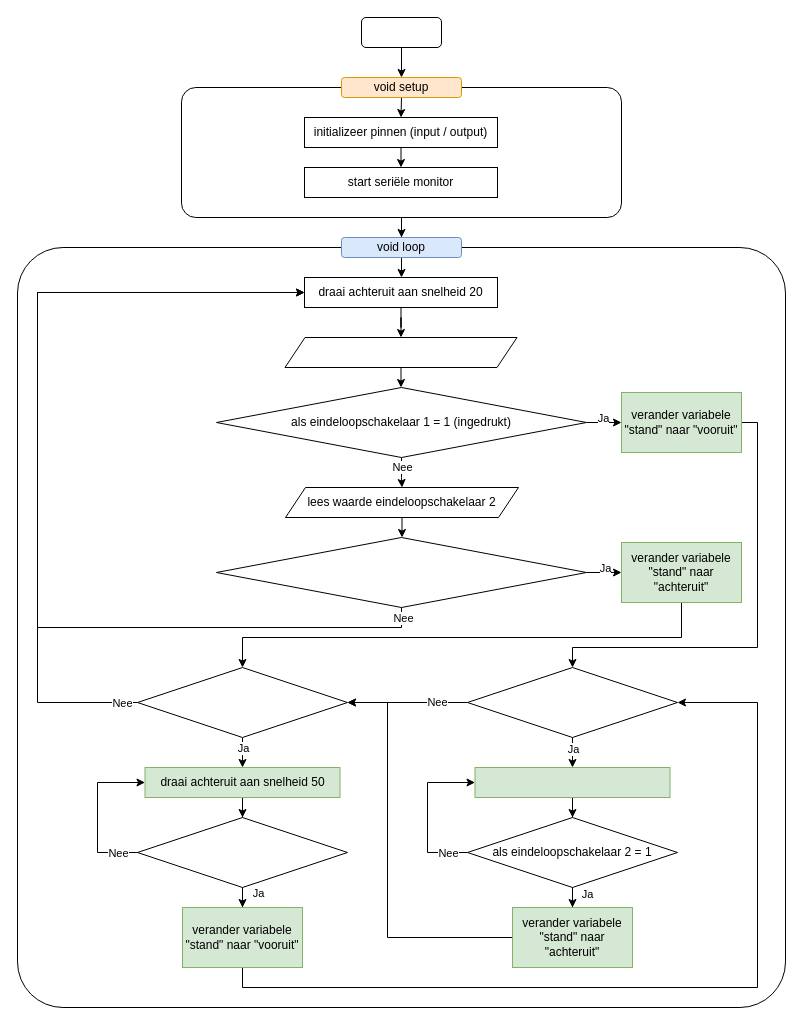
Some shapes in this 803 by 1025 pixel diagram are drawn without their labels. Here are the shapes that lost their labels. From the top down, the box of each, then its label:
(360, 16, 442, 48): start
(284, 336, 517, 368): lees waarde eindeloopschakelaar 1
(216, 536, 586, 608): als eindeloopschakelaar 2 = 1 (ingedrukt)
(136, 666, 348, 738): zolang "stand" = "acheruit"
(466, 666, 678, 738): zolang "stand" = "vooruit"
(474, 766, 670, 798): draai vooruit aan snelheid 255
(136, 816, 348, 888): als eindeloopschakelaar 1 = 1
